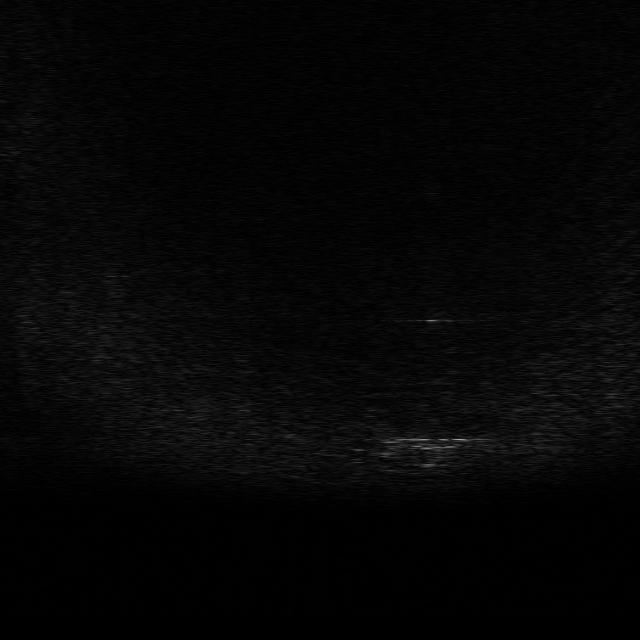plane: (372, 431, 497, 469)
